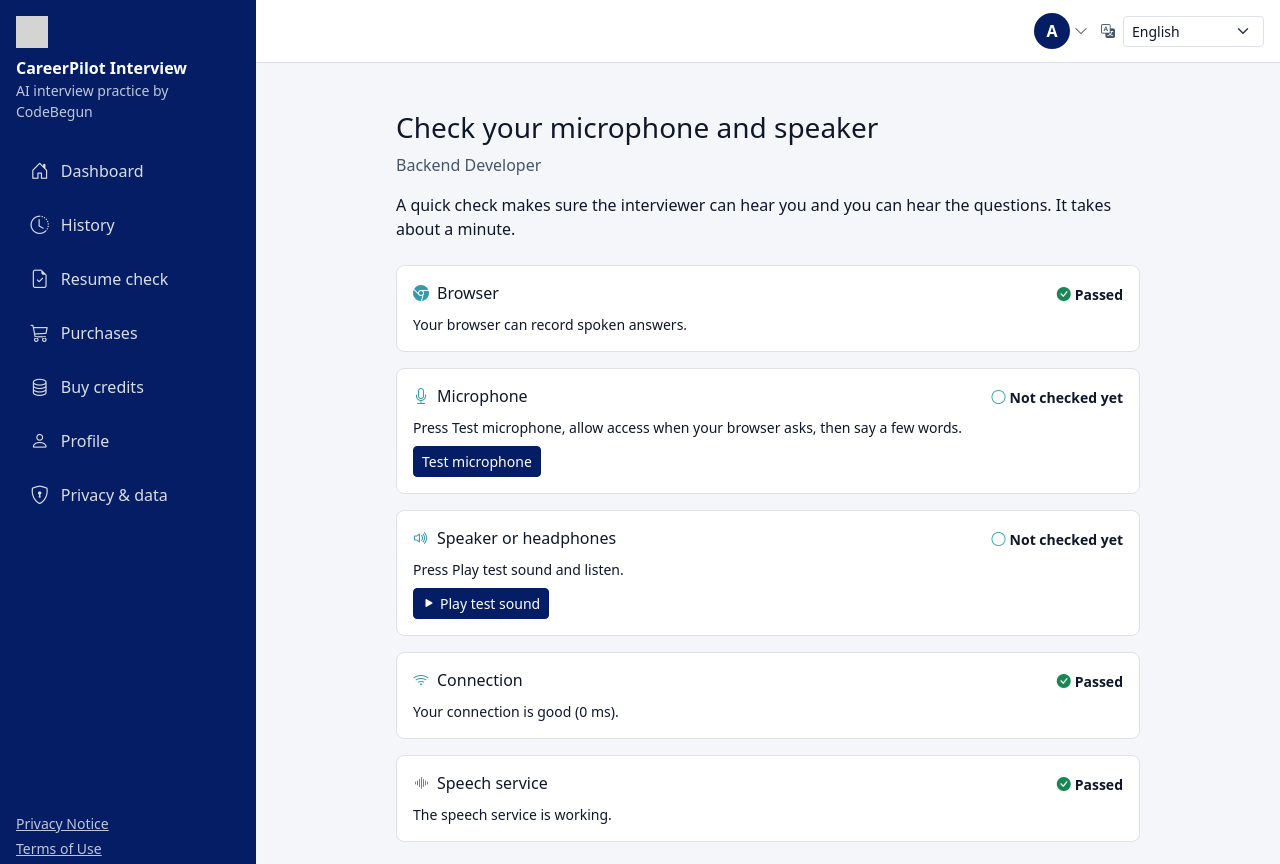
voice device check › explains a blocked microphone and offers a text interview instead
Click the button "Test microphone" at x=477, y=461, box [413,446,541,477]
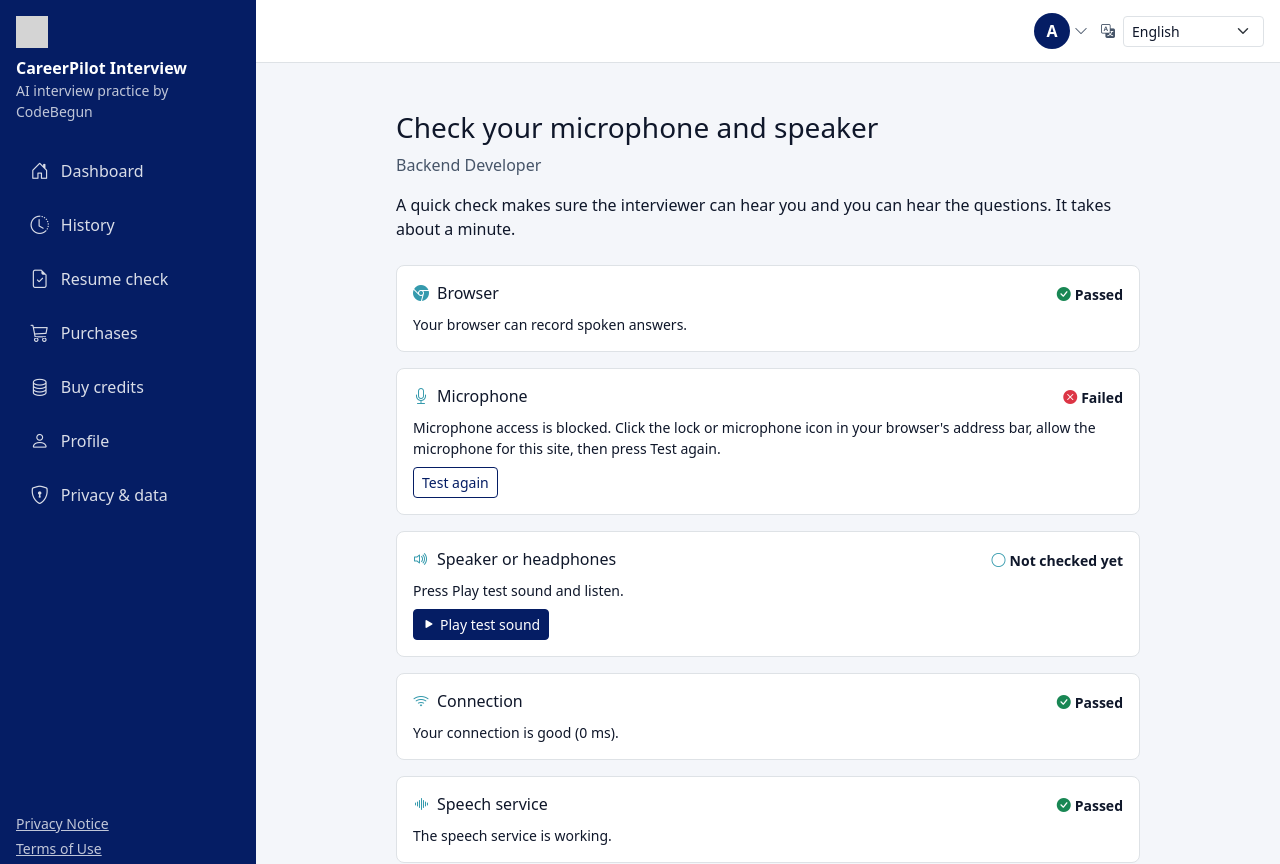
Expected: the text "Failed" is shown, [1063,387,1123,408]
Expected: the text "Microphone access is blocked" is shown, [413,418,1096,458]
Expected: the button "Test again" is shown, [413,467,498,498]
Click the button "Play test sound" at x=481, y=624, box [413,609,549,640]
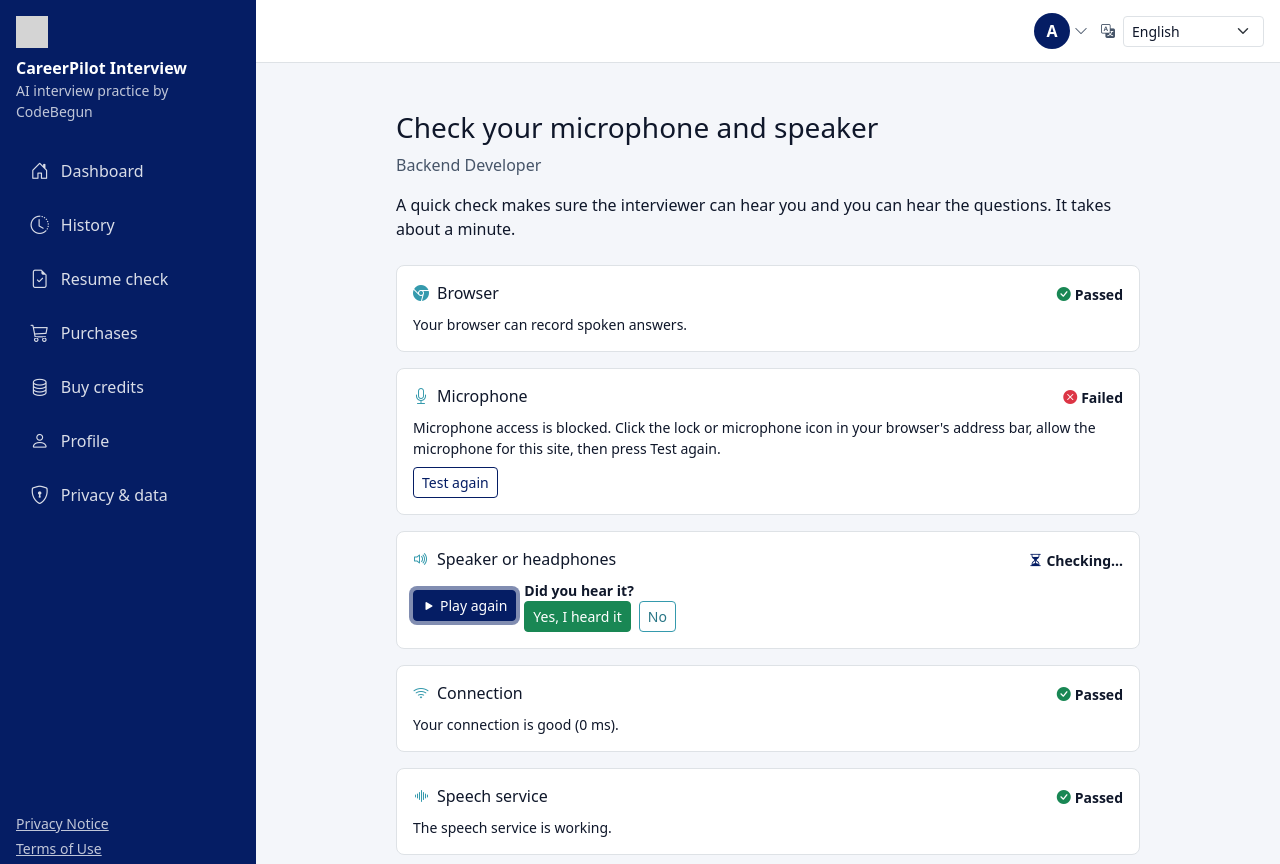
Click the button "No" at x=657, y=616, box [639,601,676,632]
(page scrolled)
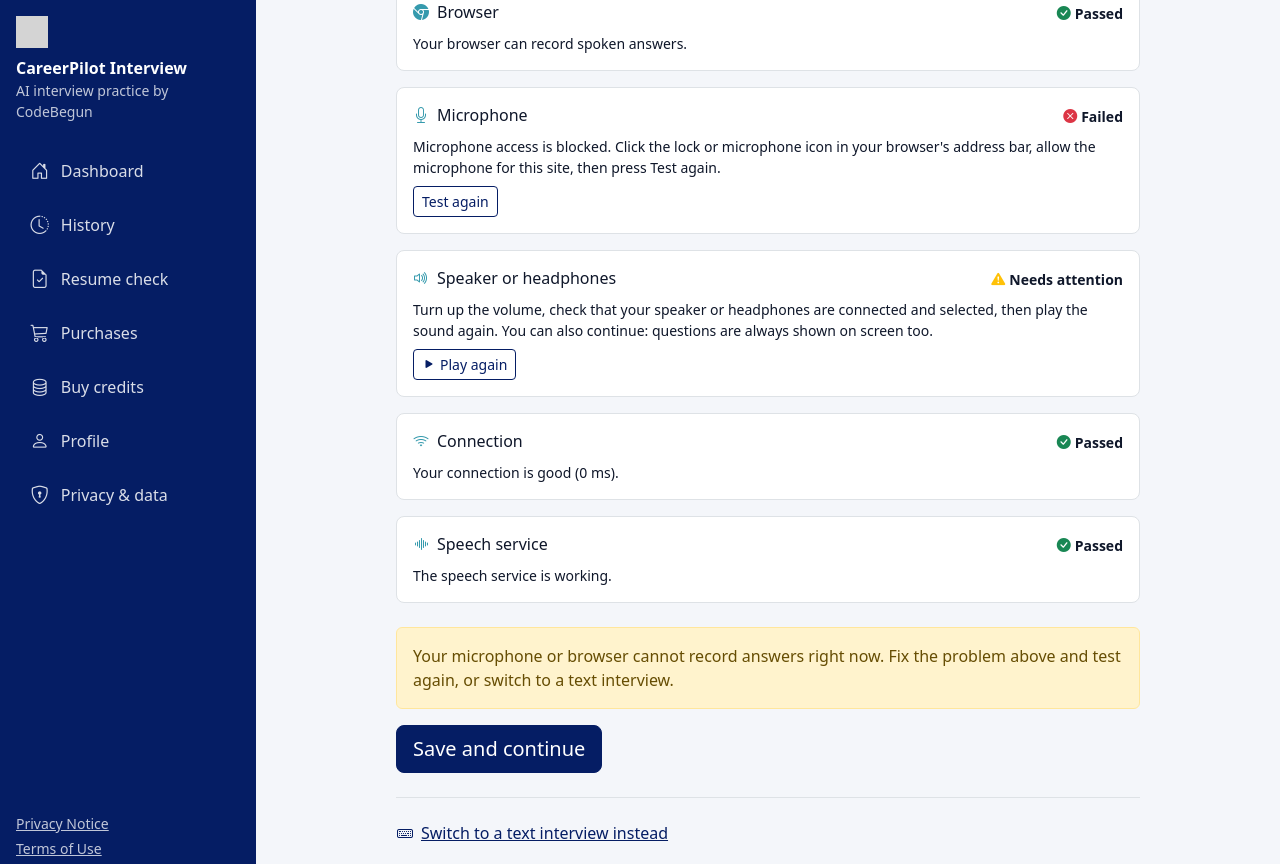
Expected: the text "Your connection is good (0 ms)." is shown, [413,463,619,482]
Expected: the text "Turn up the volume" is shown, [413,300,1088,340]
Click the button "Switch to a text interview instead" at x=532, y=833, box [396,814,669,852]
(page scrolled)
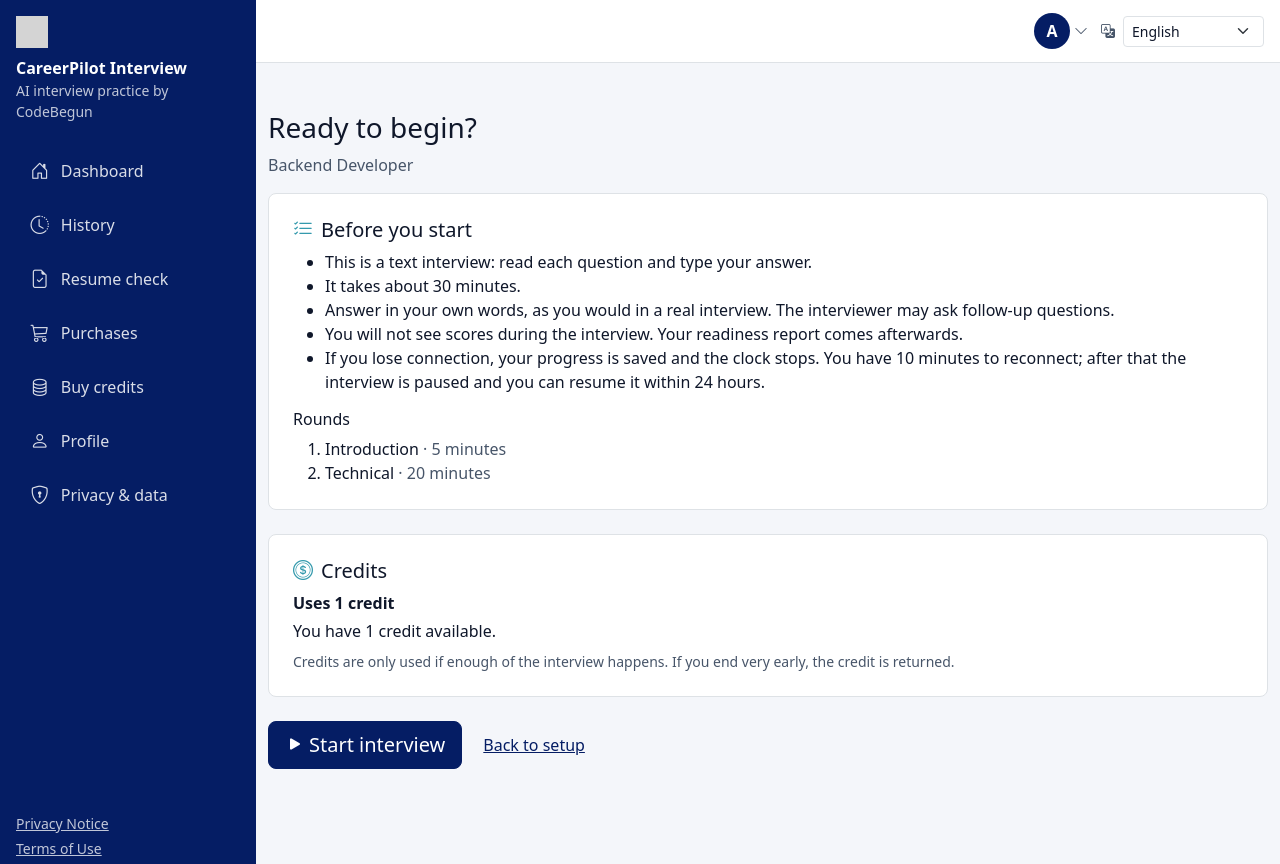
Expected: the list item "This is a text interview" is shown, [325,251,812,273]
